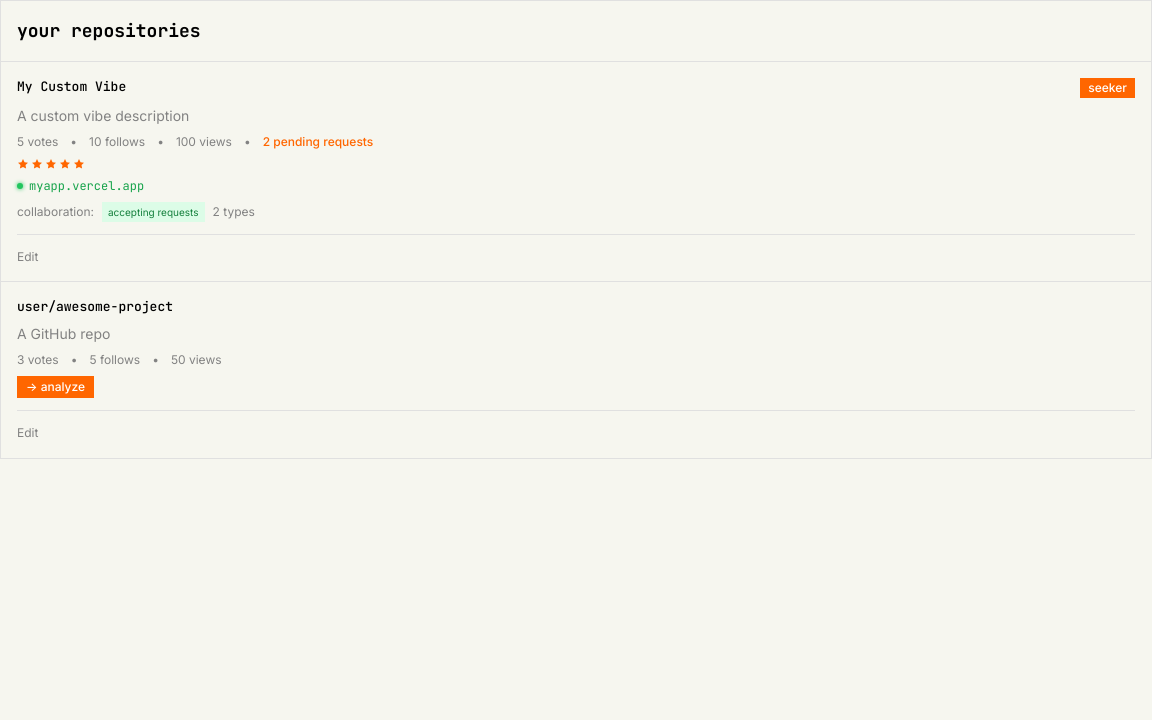
it: RepositoryList › Integration with Edit Flow › should only show one modal at a time
The image size is (1152, 720).
// Open first modal
Click the button "Edit" below "collaboration:" at (28,257), box [17,249,38,265]
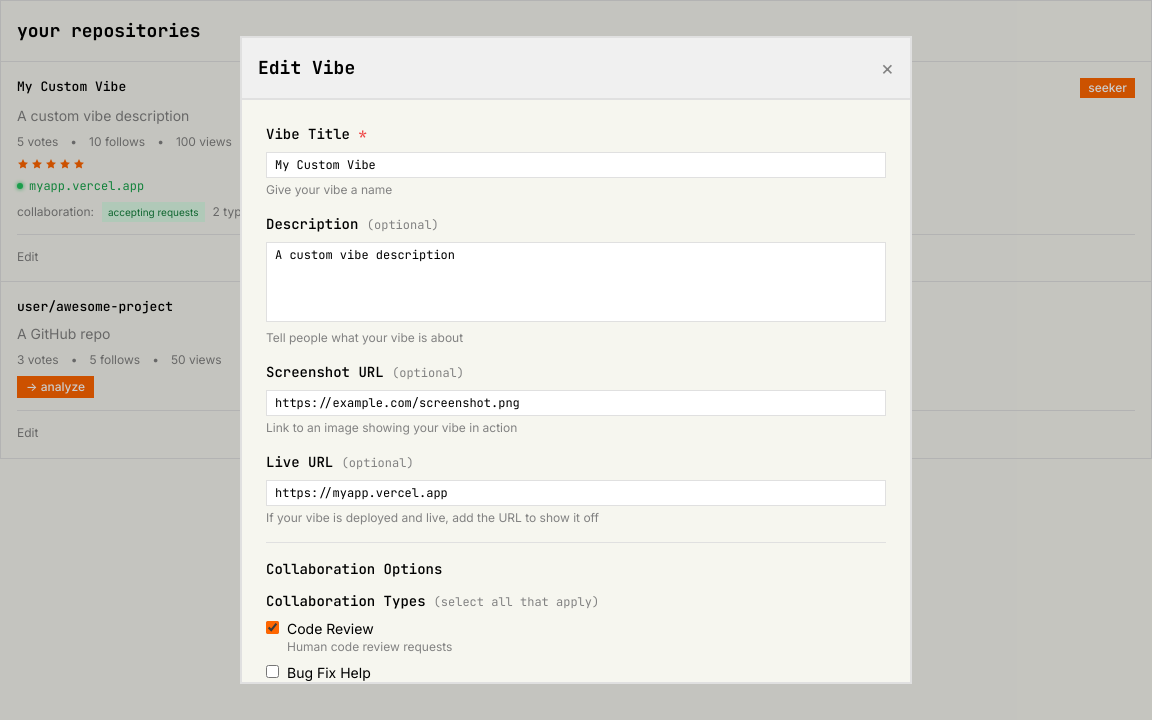
Now the number of headings "Edit Vibe" is 1, box [258,54,355,82]
